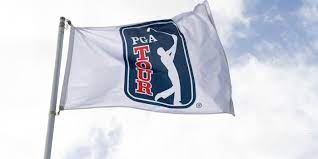Flag: (56, 16, 236, 117)
